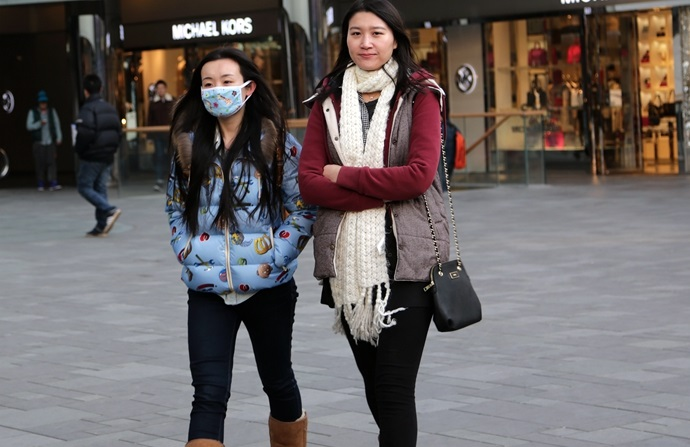face: (348, 12, 392, 68)
face_mask: (201, 61, 243, 116)
